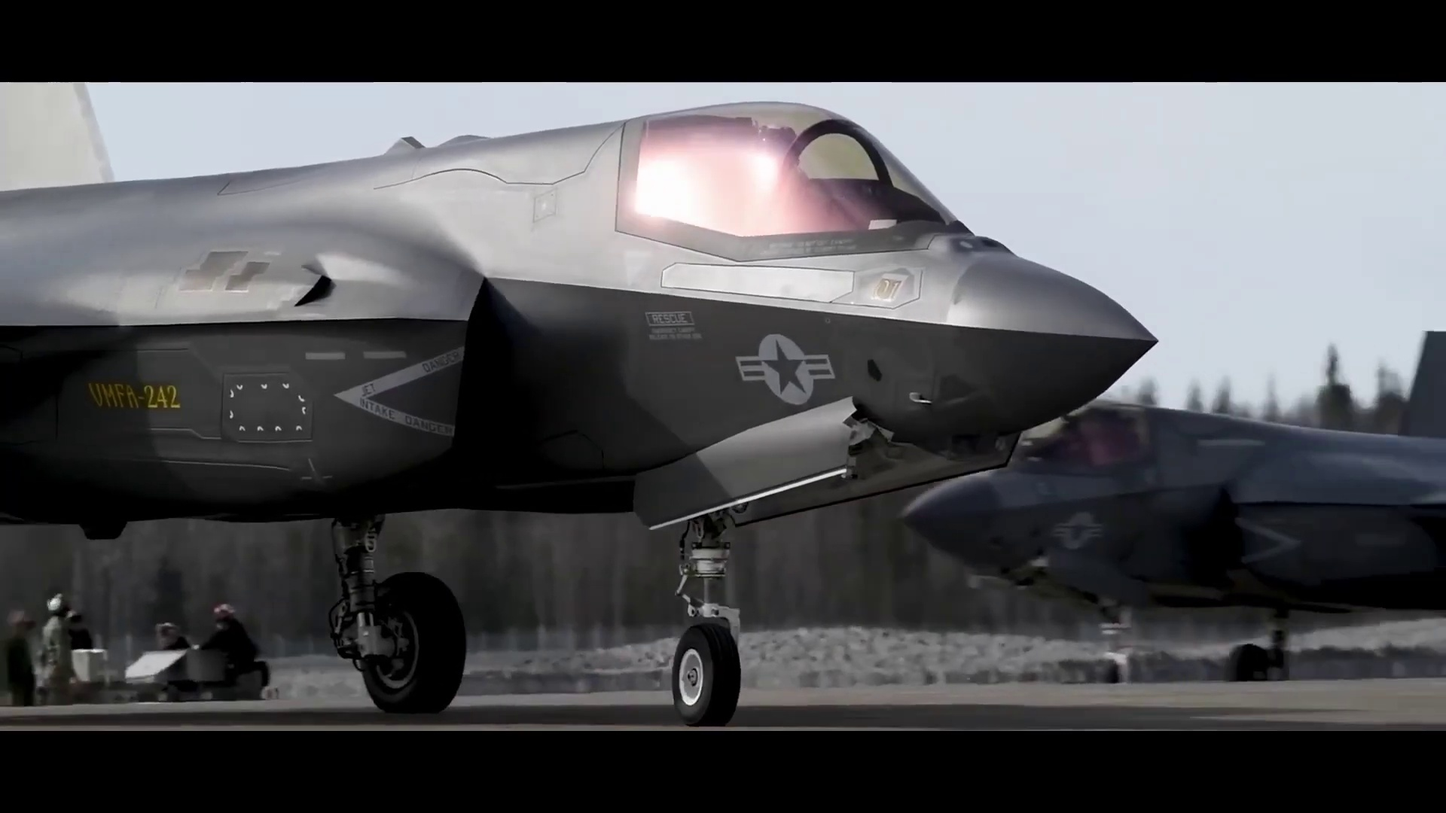F35: (0, 96, 1169, 731), (903, 324, 1446, 663)
